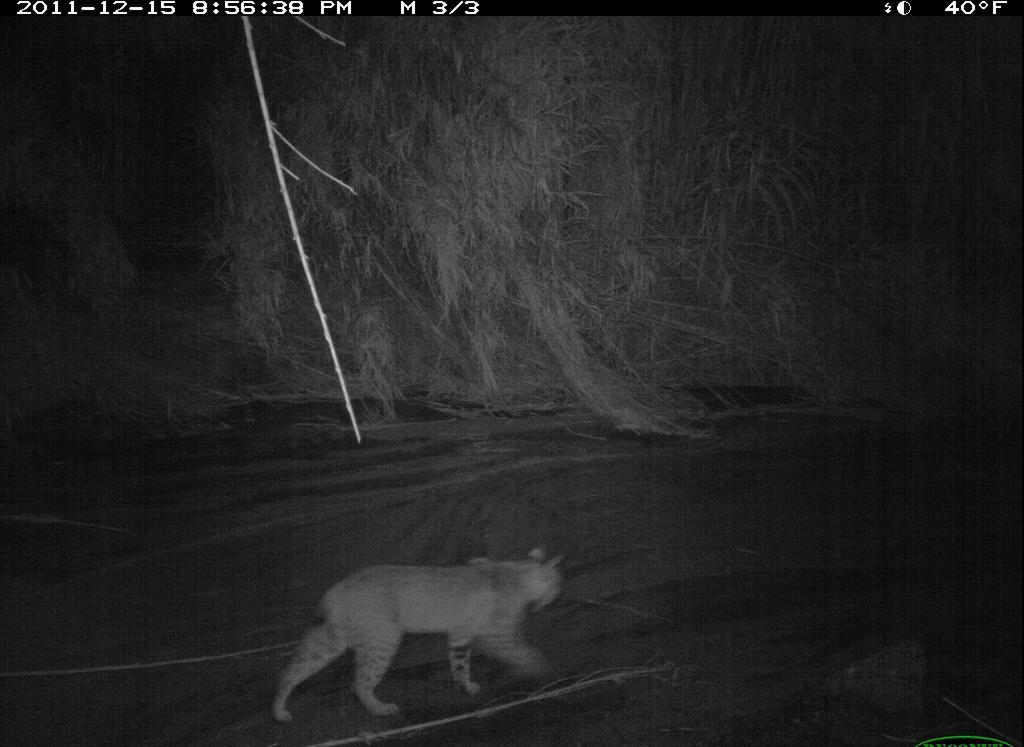bobcat: (265, 542, 600, 726)
